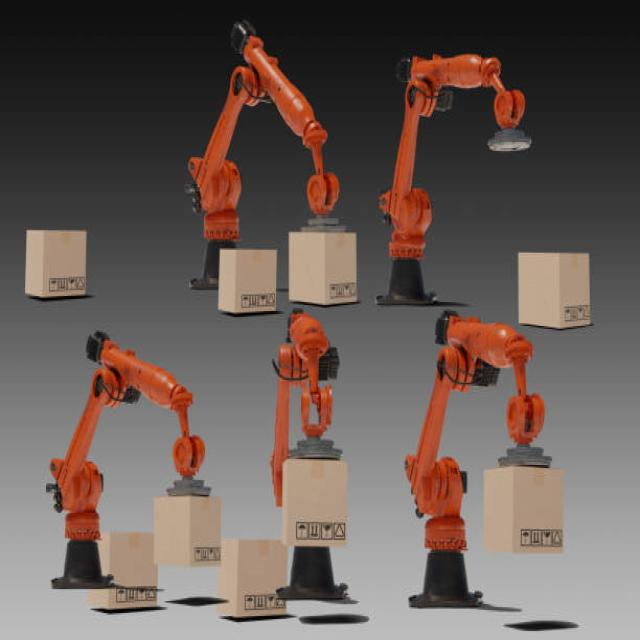Robotic-arm: (175, 6, 350, 248), (398, 308, 559, 548), (45, 336, 214, 538), (380, 36, 533, 252), (264, 307, 353, 505)
